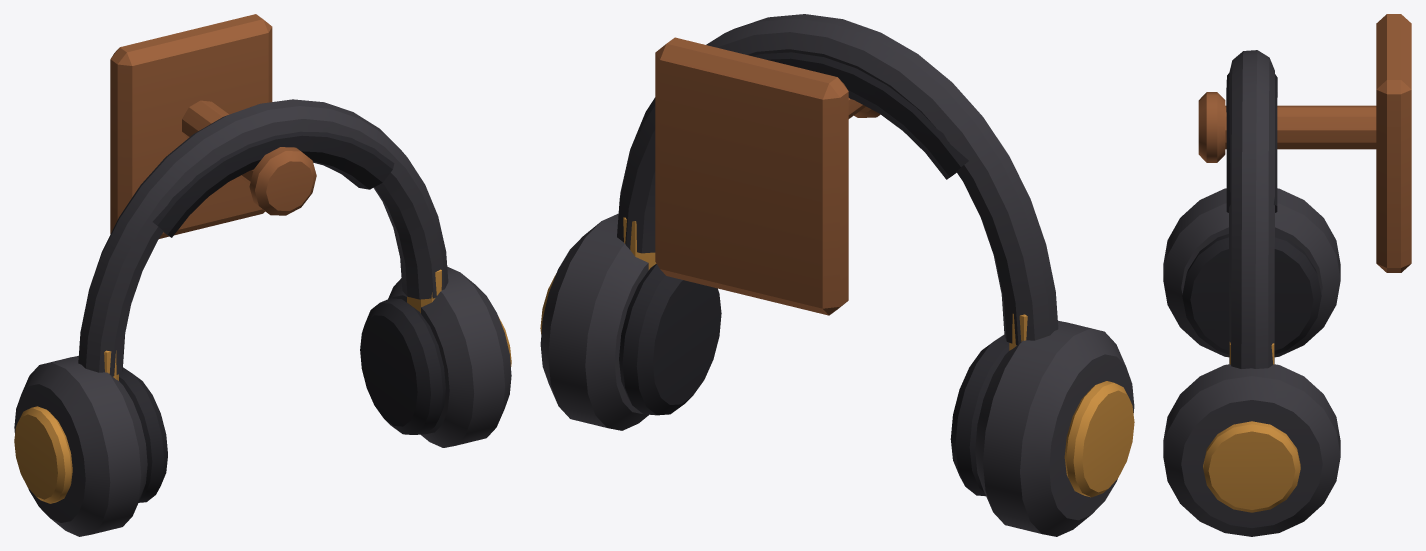
File: fone.glb
3 views of the same model, side by side, from view 1: azimuth 30°, elevation 25°; view 2: azimuth 150°, elevation 25°; view 3: azimuth 270°, elevation 25° (orthographic). The views are drawn at different scales.
Parts seen in each view (by area): view 1: fone, gancho; view 2: fone, gancho; view 3: fone, gancho.
Boxes of the visible parts, x1,y1,x2,y2 form: fone: (14, 99, 511, 536); gancho: (110, 14, 316, 238); fone: (540, 14, 1134, 536); gancho: (655, 37, 880, 315); fone: (1163, 50, 1340, 536); gancho: (1198, 14, 1411, 272).
Size of the model in its own units: 0.586 by 0.49 by 0.28.
